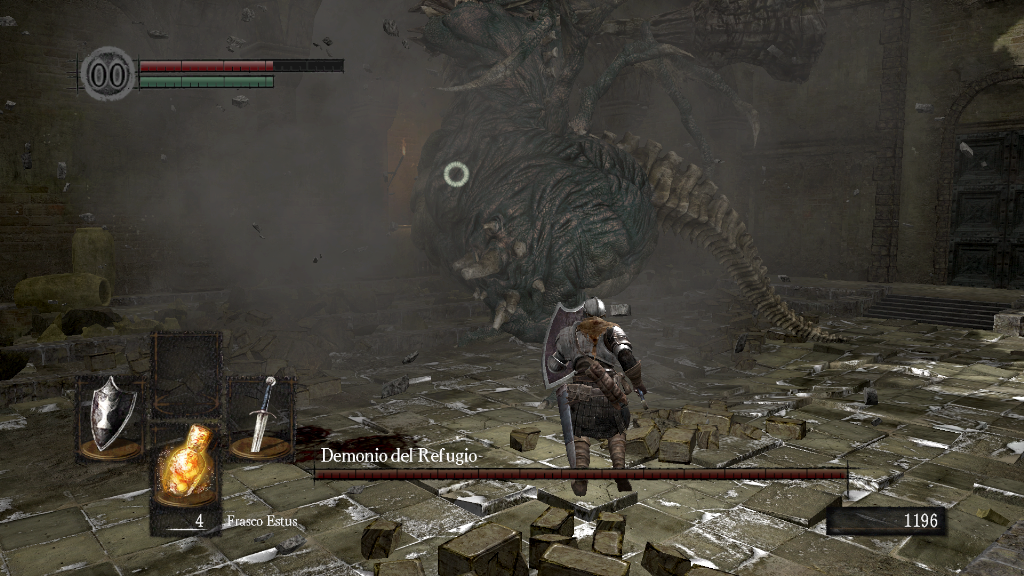asylumDemon: (405, 3, 859, 347)
bossHP: (314, 469, 847, 479)
health: (138, 58, 343, 71)
humanity: (80, 45, 136, 102)
player: (541, 296, 652, 495)
souls: (825, 506, 945, 536)
stamina: (138, 74, 274, 88)
